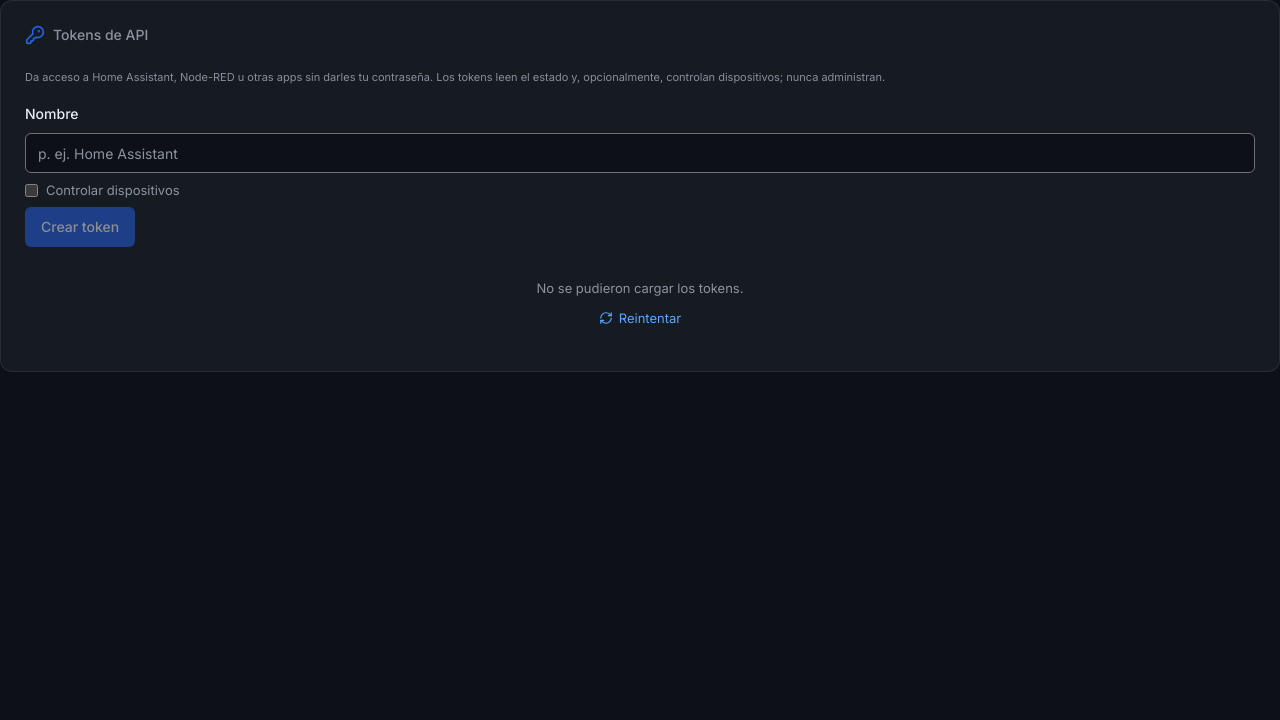
ApiTokensCard: un fallo de carga no es «no hay tokens» › crear con la lista sin cargar relee: no enseña una lista de uno como si fuera la completa
This screenshot has width=1280, height=720.
Expected: the text "No se pudieron cargar los tokens." is shown, [536,279,743,297]
Step 1. Type "Nuevo" into the field labelled "Nombre" → {"x": 640, "y": 153}, box [25,133,1255,173]
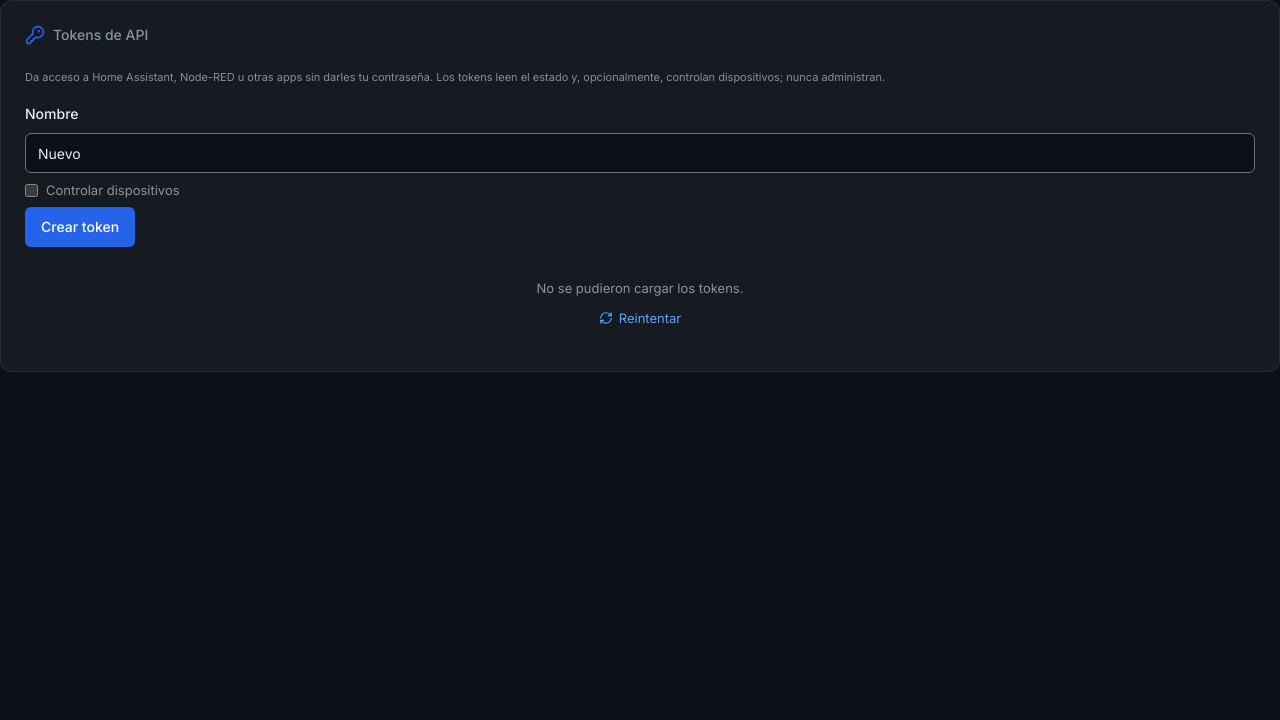
Step 2. Click the button "Crear token" → {"x": 80, "y": 227}, box [25,207,135,247]
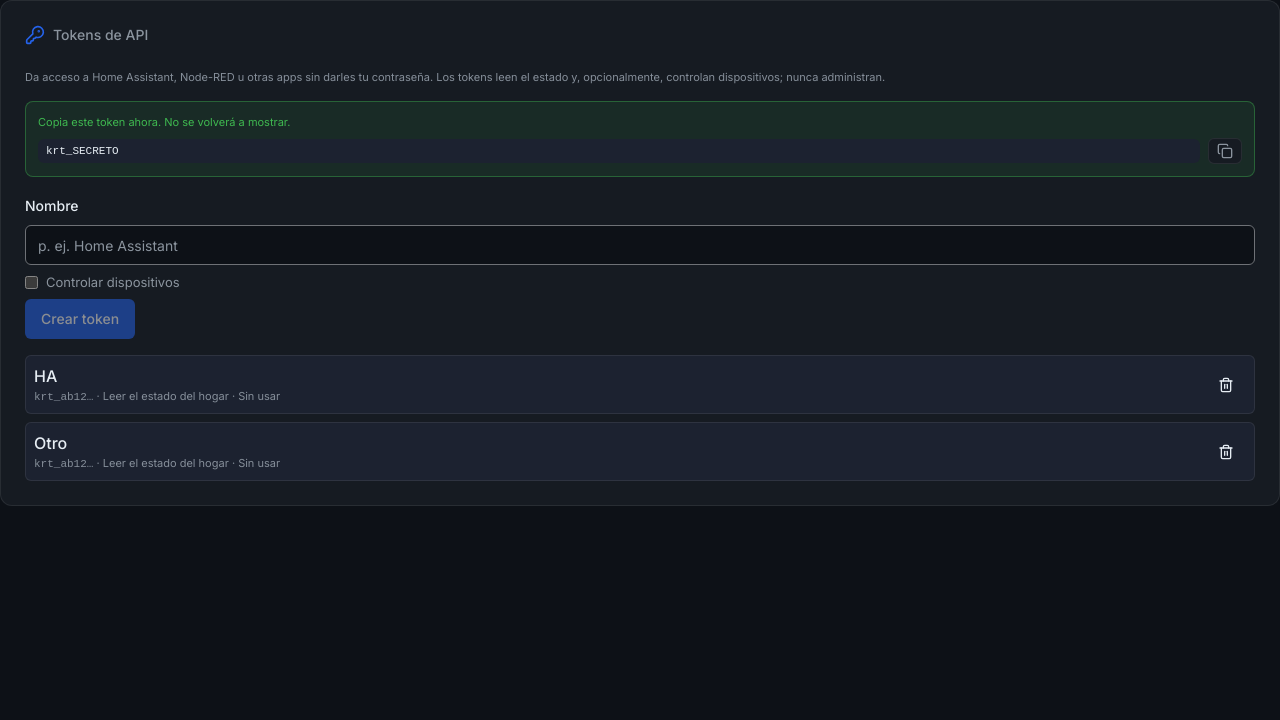
Result: the text "krt_SECRETO" is shown at [38,139,1200,163]
Result: the text "HA" is shown at [34,366,57,386]
Result: the text "Otro" is shown at [34,433,67,453]
